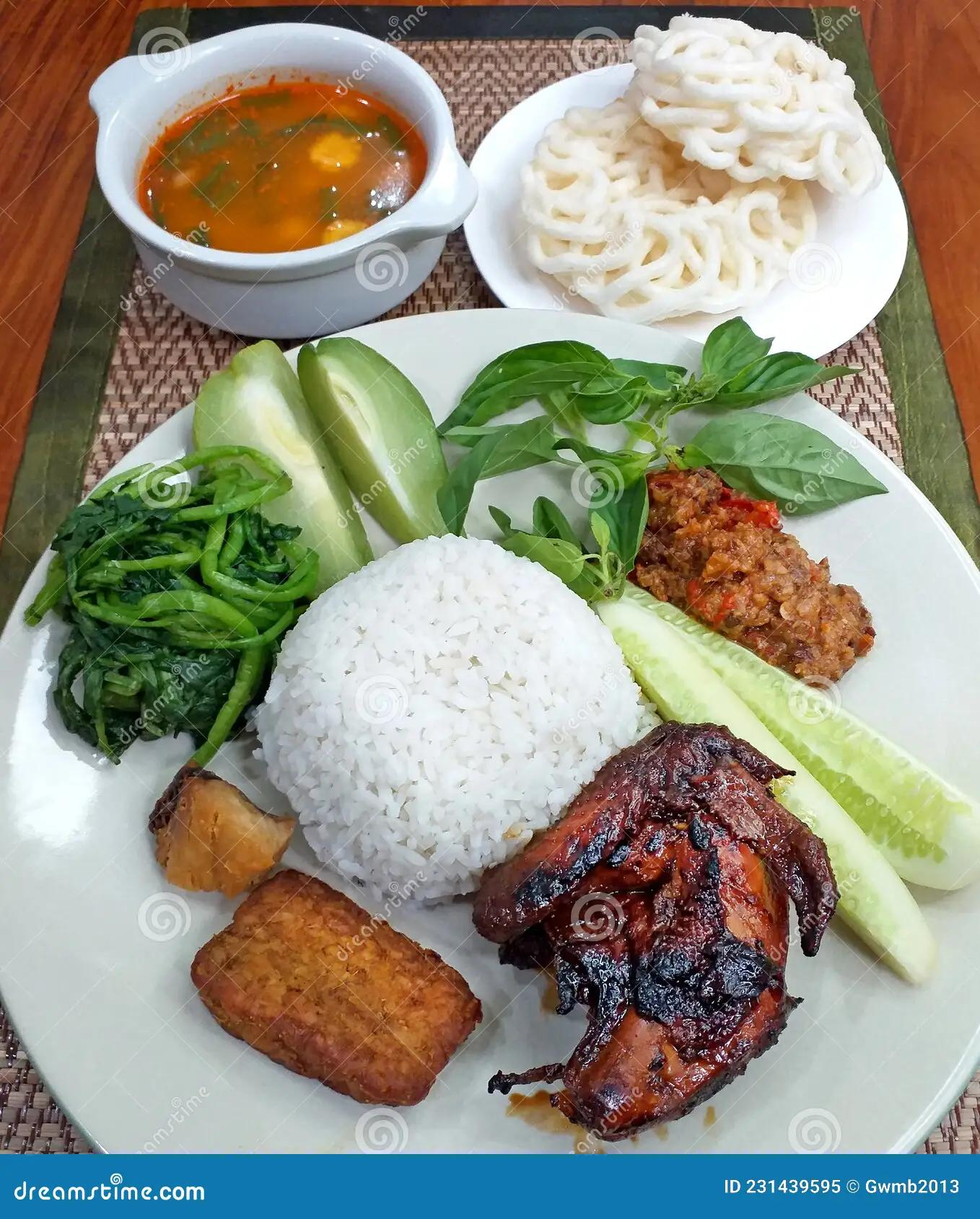buah_sayur_lainnya: (505, 355, 789, 469), (79, 535, 270, 688), (306, 335, 417, 525)
buah_sayur_vitA: (202, 110, 370, 217)
daging: (607, 799, 736, 1063), (670, 503, 774, 612)
kacang_legume: (245, 904, 377, 1030)
makanan_berpati: (331, 593, 563, 799), (571, 187, 741, 270), (680, 40, 813, 139)
